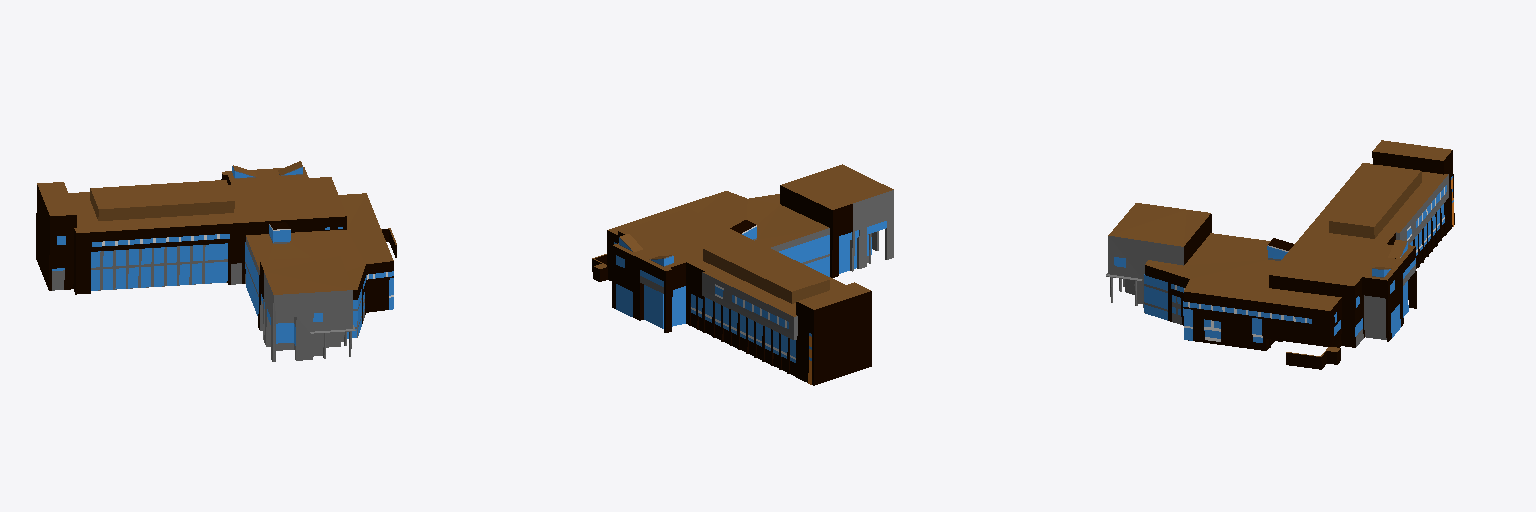
Rendered from Commons.obj.
3 renders of one model, left to right at view 1: azimuth 30°, elevation 25°; view 2: azimuth 150°, elevation 25°; view 3: azimuth 270°, elevation 25°, orthographic.
Visible parts, largest first — view 1: SM_CmnsBldg, SM_CmnsWndw; view 2: SM_CmnsBldg, SM_CmnsWndw; view 3: SM_CmnsBldg, SM_CmnsWndw.
Boxes of the visible parts, x1=… form: SM_CmnsBldg: x1=36, y1=161, x2=396, y2=361; SM_CmnsWndw: x1=52, y1=166, x2=393, y2=345; SM_CmnsBldg: x1=592, y1=164, x2=893, y2=385; SM_CmnsWndw: x1=614, y1=221, x2=886, y2=384; SM_CmnsBldg: x1=1106, y1=140, x2=1454, y2=369; SM_CmnsWndw: x1=1114, y1=176, x2=1453, y2=342.
Size of the model in its own units: 10755 by 2748 by 10479.